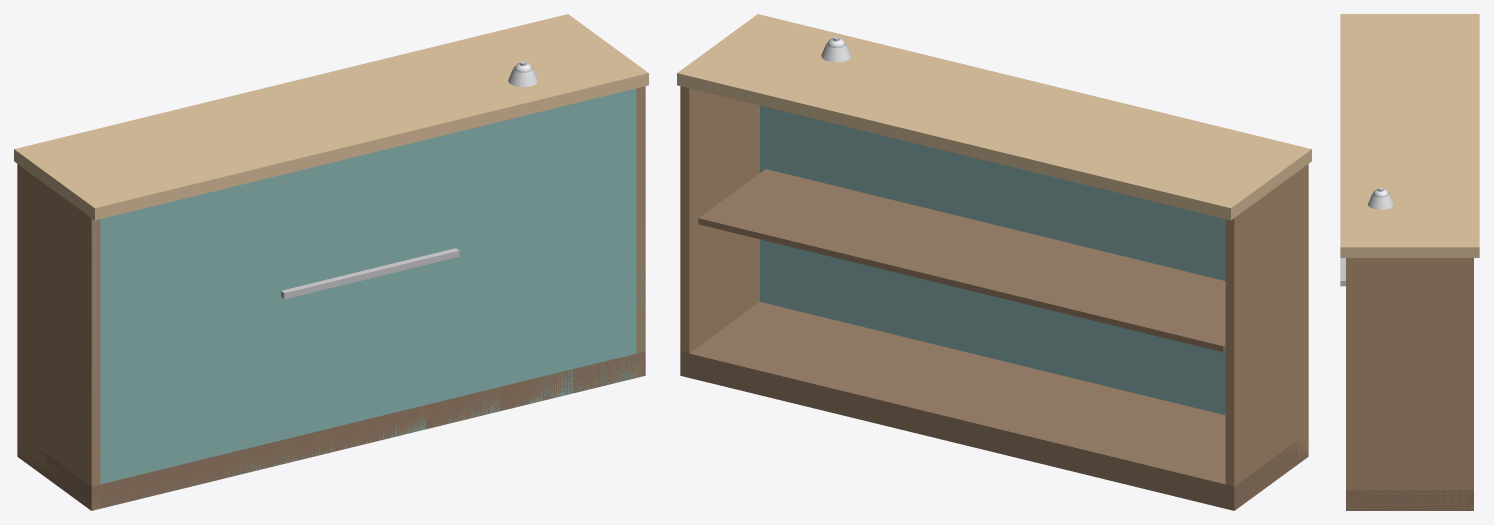
File: reception-counter.glb
3 renders of one model, left to right at view 1: azimuth 30°, elevation 25°; view 2: azimuth 150°, elevation 25°; view 3: azimuth 270°, elevation 25°, orthographic. The views are drawn at different scales.
Parts seen in each view (by area): view 1: body; view 2: body; view 3: body, bell.
Boxes of the visible parts, x1,y1,x2,y2 form: body: (14,14,648,510); body: (677,14,1311,510); body: (1340,14,1479,510); bell: (1368,187,1393,209).
Bounding box in the file's own units: 1.9 × 1.06 × 0.48.
